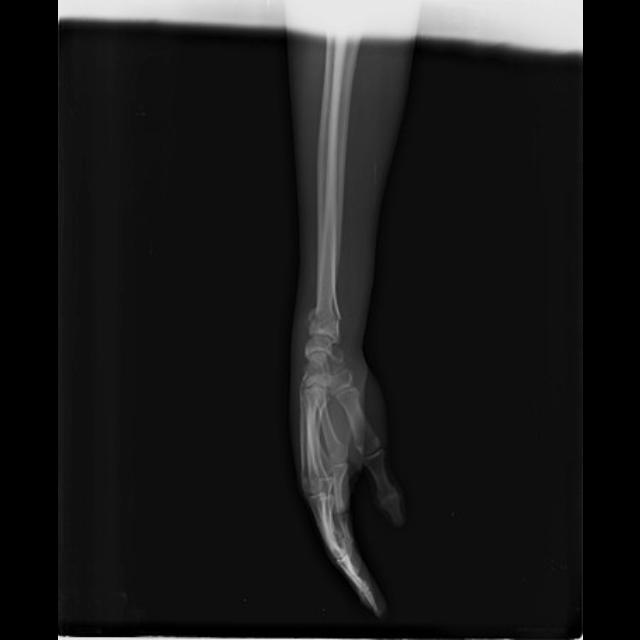Fracture: (303, 303, 344, 333)
